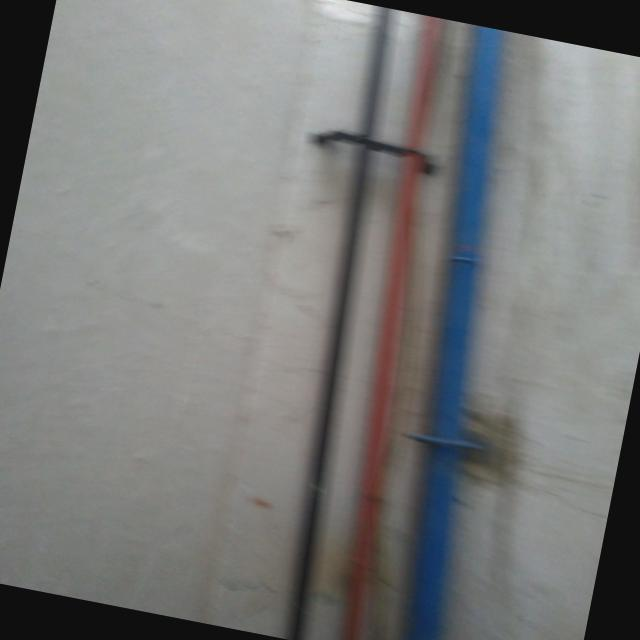gas: (282, 4, 390, 640), (339, 15, 446, 640), (400, 24, 503, 640)
